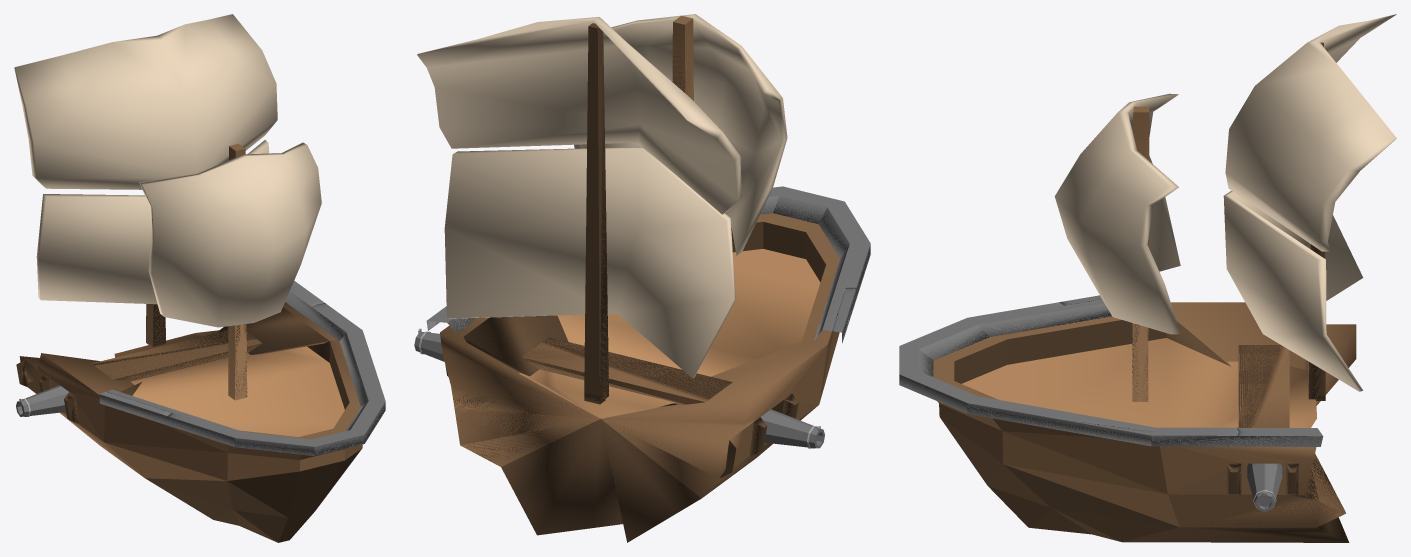
File: SinkingBoat_Front.fbx
3 views of the same model, side by side, from view 1: azimuth 30°, elevation 25°; view 2: azimuth 150°, elevation 25°; view 3: azimuth 270°, elevation 25° (orthographic). The views are drawn at different scales.
Visible parts, largest first — view 1: Cañonero.003; view 2: Cañonero.003; view 3: Cañonero.003.
Boxes of the visible parts, box(x1,y1,x2,y2) form: Cañonero.003: box(14, 14, 385, 542); Cañonero.003: box(414, 14, 870, 542); Cañonero.003: box(899, 14, 1396, 542).
Bounding box in the file's own units: 989 × 1210 × 1130.
